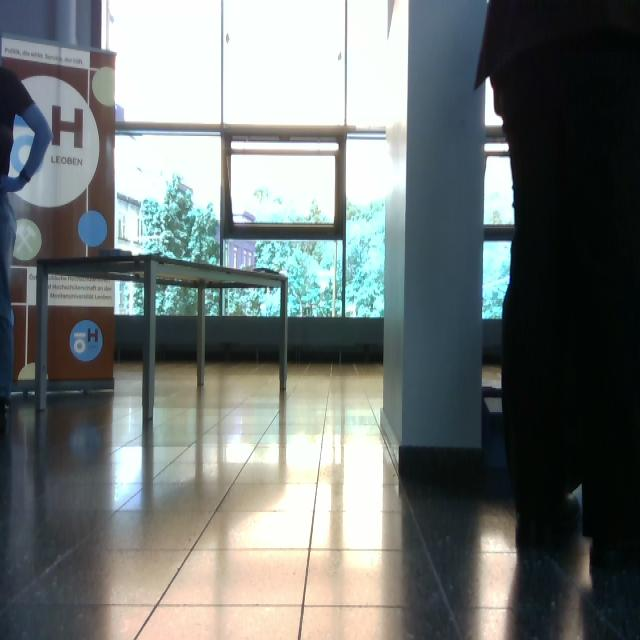door: (1, 35, 117, 387)
light bulb: (13, 219, 42, 263), (78, 210, 108, 248), (92, 66, 115, 108)
person: (1, 65, 54, 434)
pillar: (390, 1, 489, 456)
table: (34, 250, 291, 425)
tiled floor: (2, 359, 639, 639)
window: (114, 132, 222, 317)
